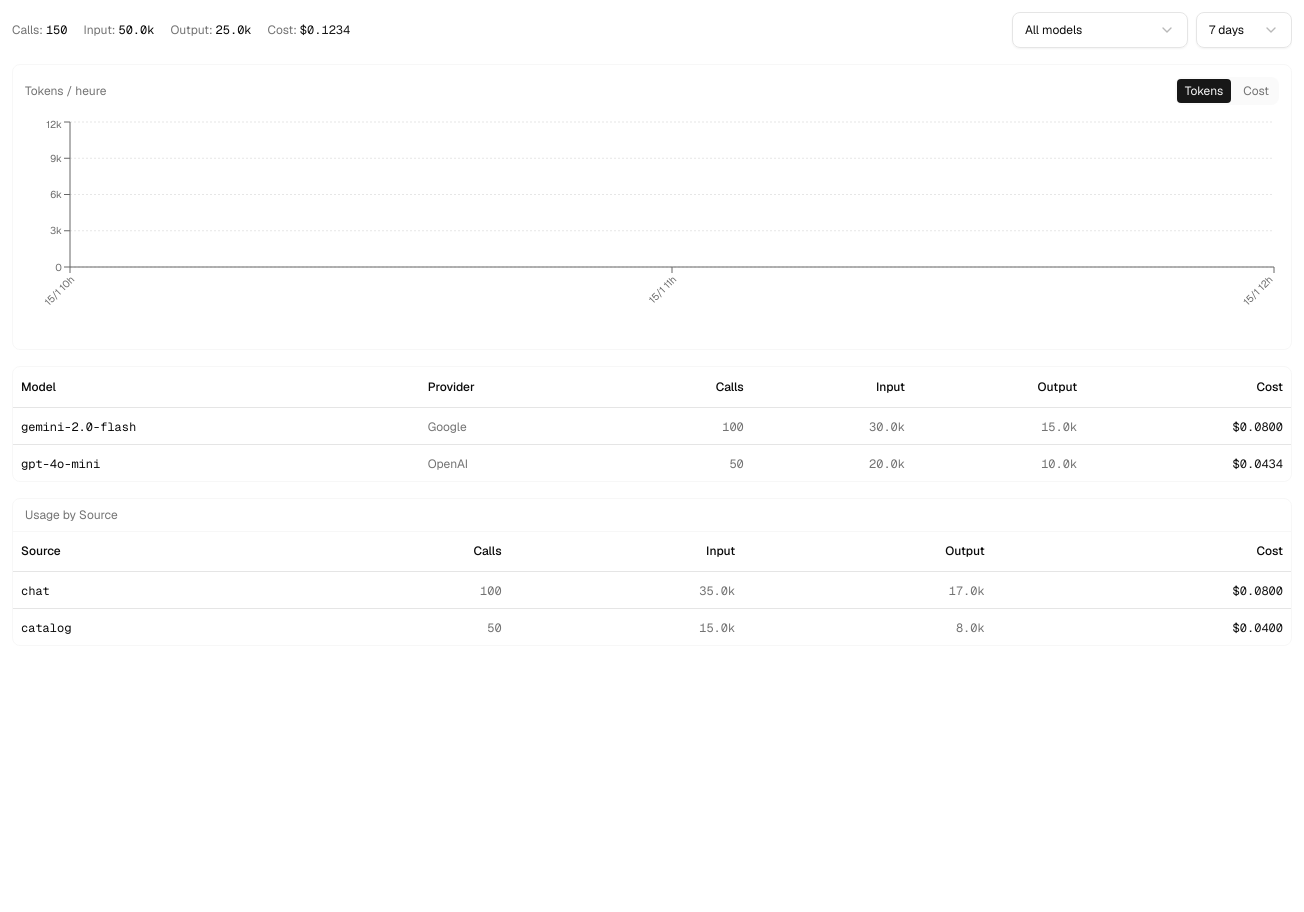
UsageTab › Chart metric toggle › should switch to cost view when clicking Cost button
What coordinates should you click on to do the following:
click the button "Cost"
I would click on:
 (1256, 91)
Its box is [1235,79,1277,103].
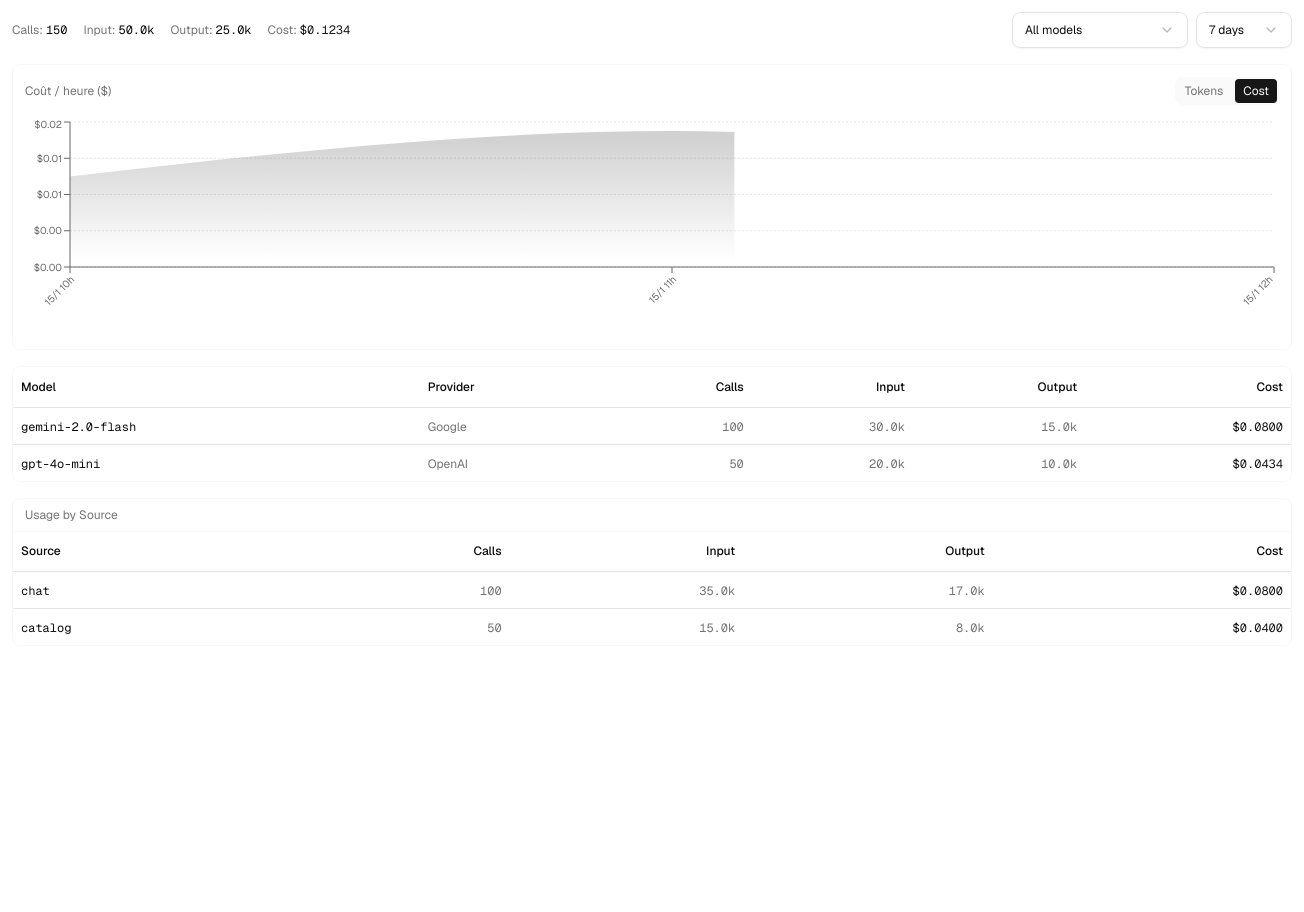
Check: the text "Coût / heure ($)" is shown, box [25,83,111,99]
